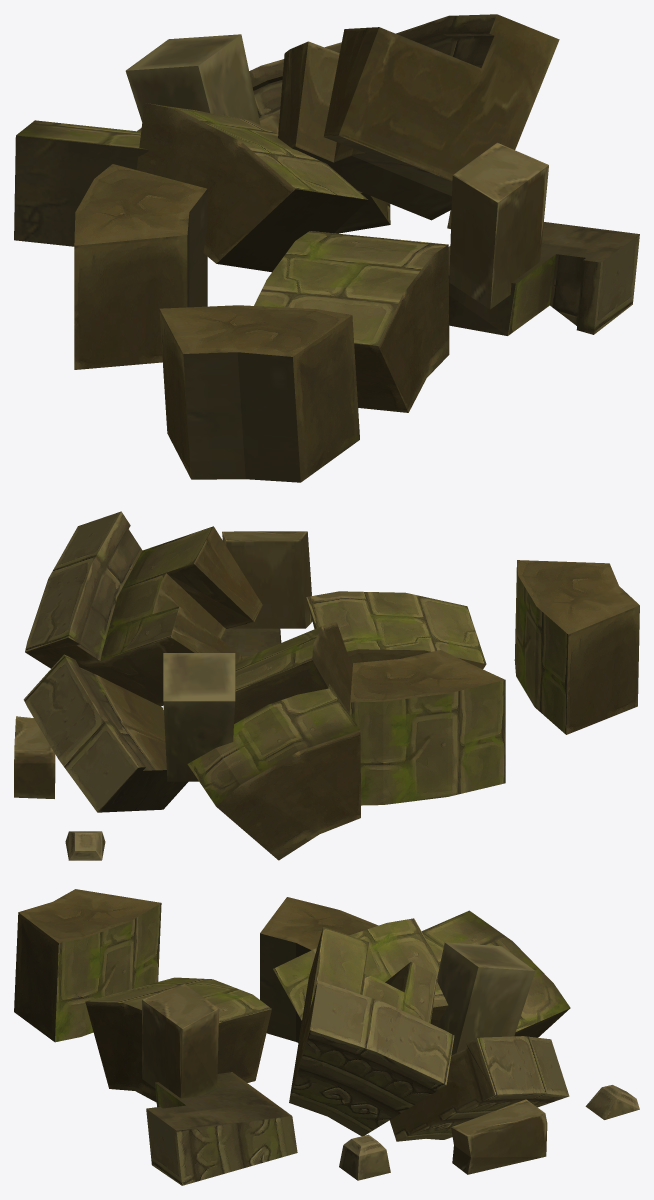
File: stone_bridge_destroyed_05.fbx
3 views of the same model, one above another, from view 1: azimuth 30°, elevation 25°; view 2: azimuth 150°, elevation 25°; view 3: azimuth 270°, elevation 25° (orthographic). The views are drawn at different scales.
Parts seen in each view (by area): view 1: obj3.005; view 2: obj3.005; view 3: obj3.005.
Boxes of the visible parts, x1,y1,x2,y2 form: obj3.005: (14, 14, 639, 482); obj3.005: (14, 511, 639, 860); obj3.005: (14, 889, 639, 1185).
Bounding box in the file's own units: 5.27 × 2.69 × 6.94.
